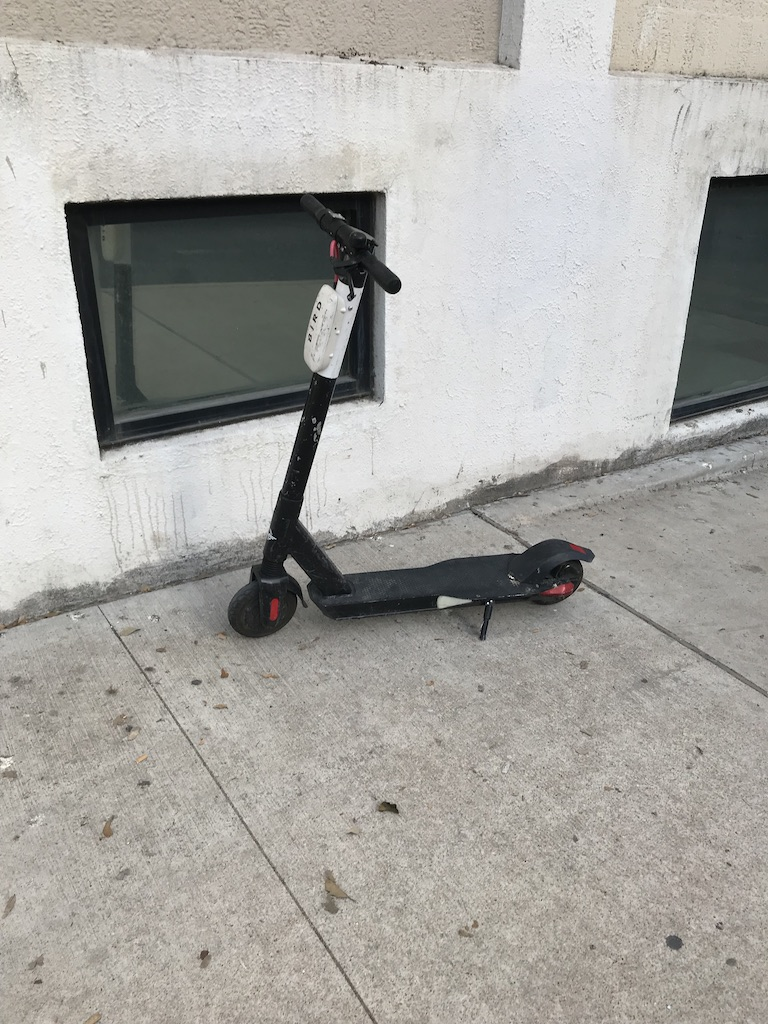scooter: (229, 197, 595, 641)
